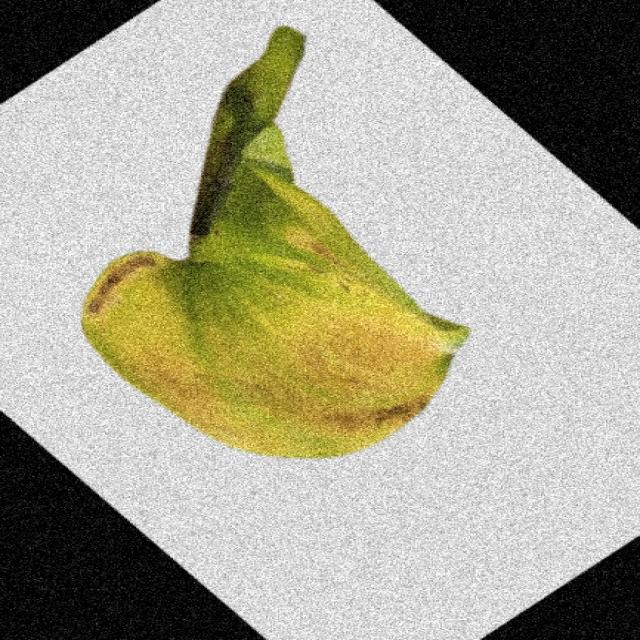daun berpenyakit kuning: (83, 27, 470, 458)
